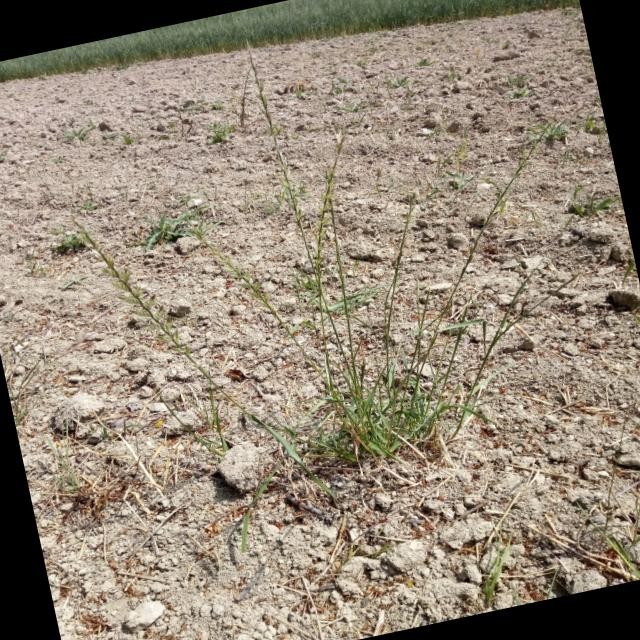Lolium: (68, 100, 623, 520), (70, 206, 178, 358), (239, 38, 305, 222), (460, 118, 572, 225), (188, 212, 272, 318), (292, 138, 366, 256)
